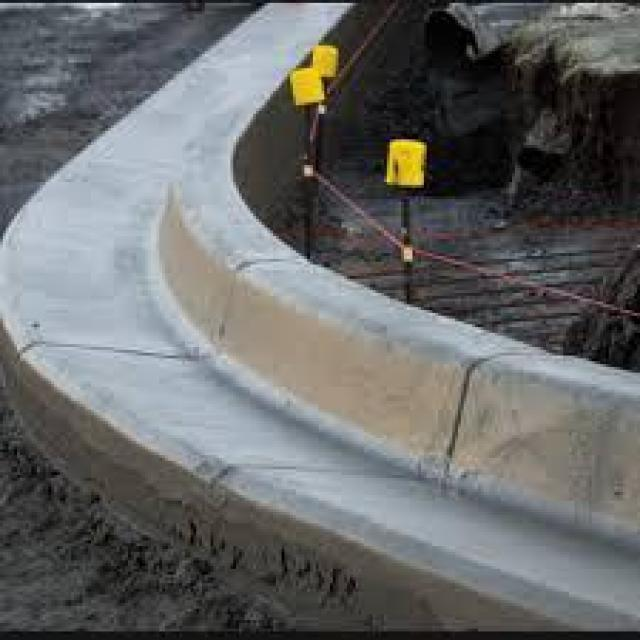curb: (1, 175, 636, 636), (23, 4, 358, 191)
